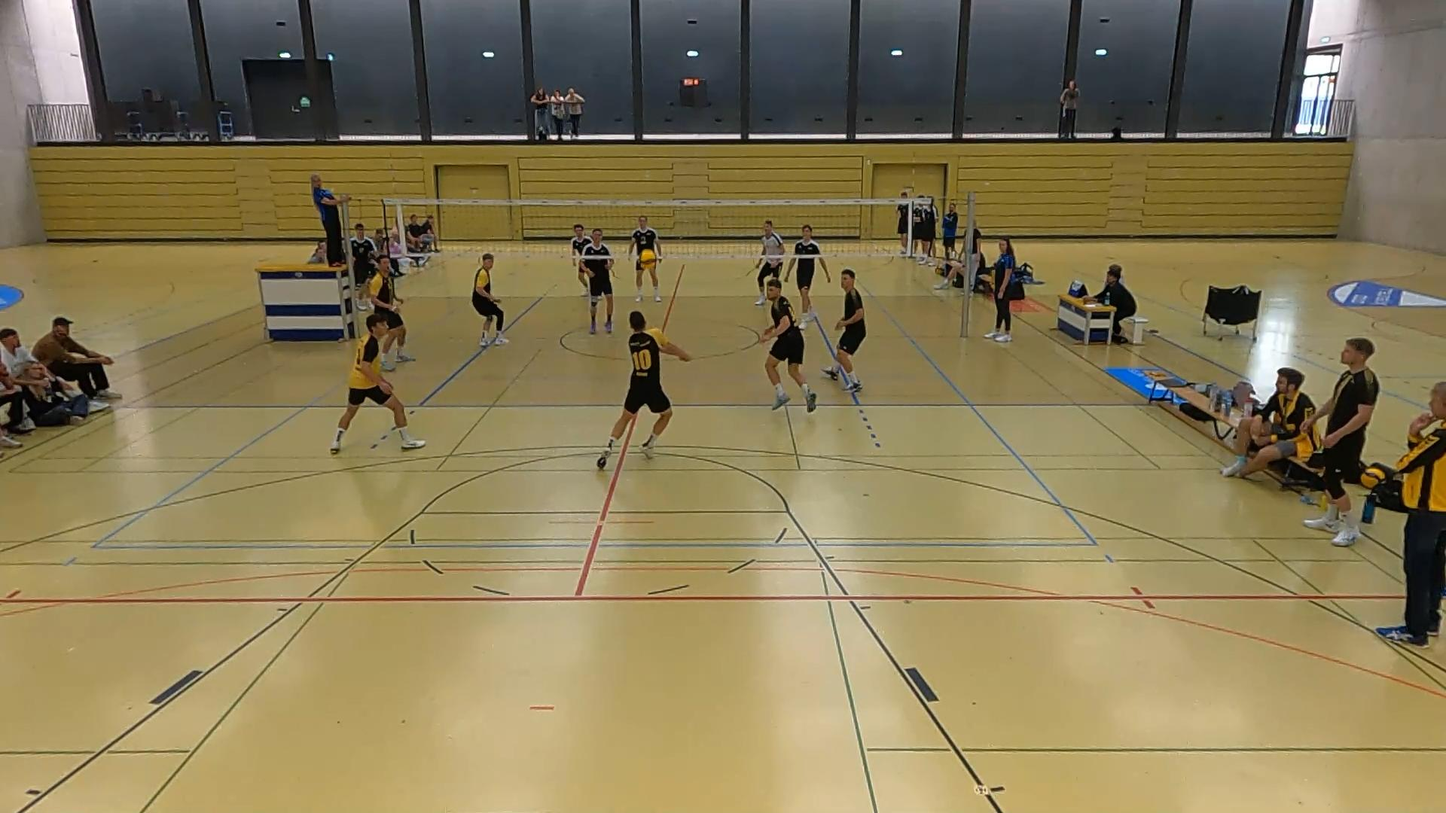ricezione: (590, 304, 695, 473)
